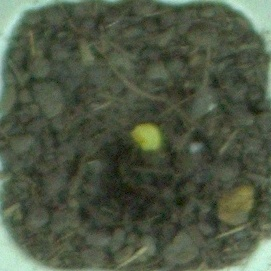chilli seed: (128, 119, 166, 152)
